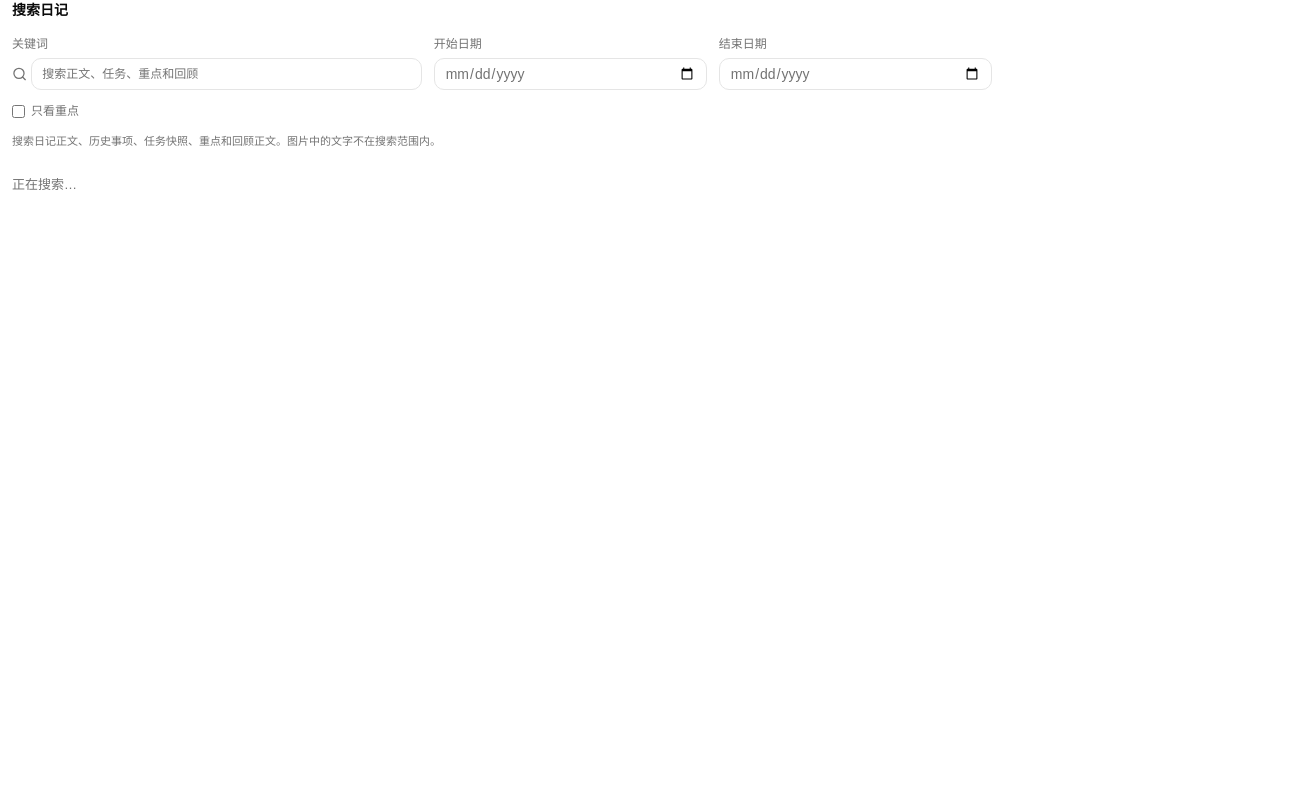
Test: paginates highlight excerpts in batches of fifty and resets the page when filtering
This screenshot has width=1292, height=800.
Click the checkbox labelled "只看重点". click: {"x": 18, "y": 111}
box: [12,104,25,118]
(page scrolled)
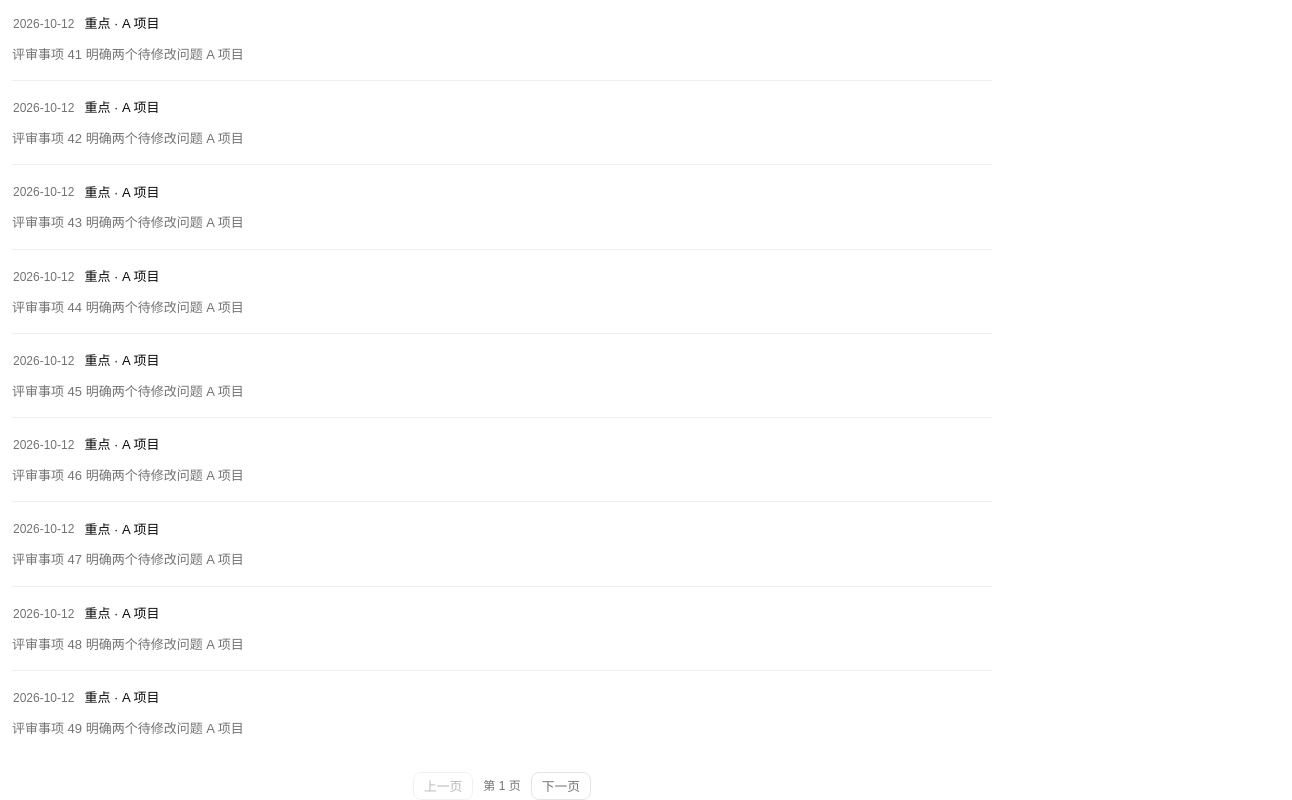
Click the button "下一页". click: {"x": 561, "y": 786}
box: [531,772,591,799]
(page scrolled)
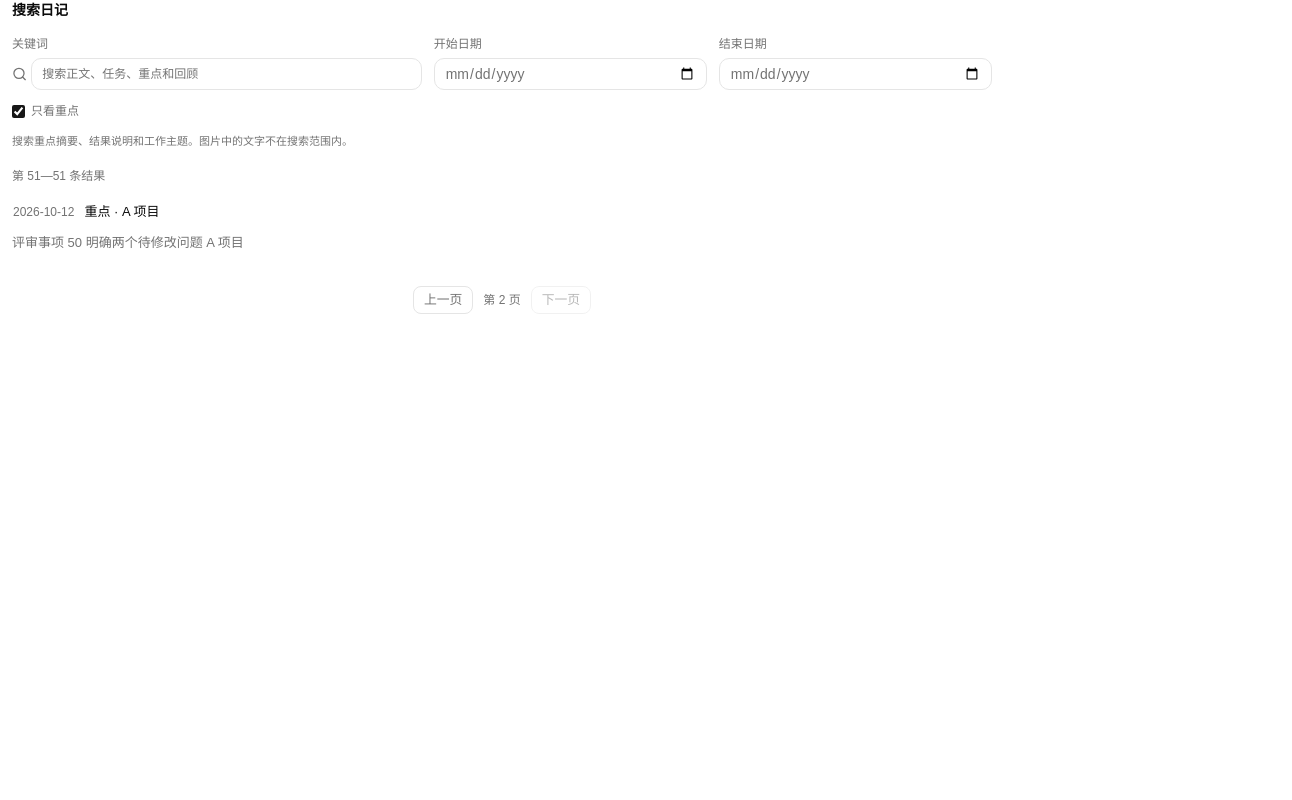
Expected: the number of buttons named "打开2026-10-12重点" is 1, [12,200,992,225]
Type "评审事项 50" into the search field labelled "关键词". click: {"x": 226, "y": 74}
box: [31,58,422,90]
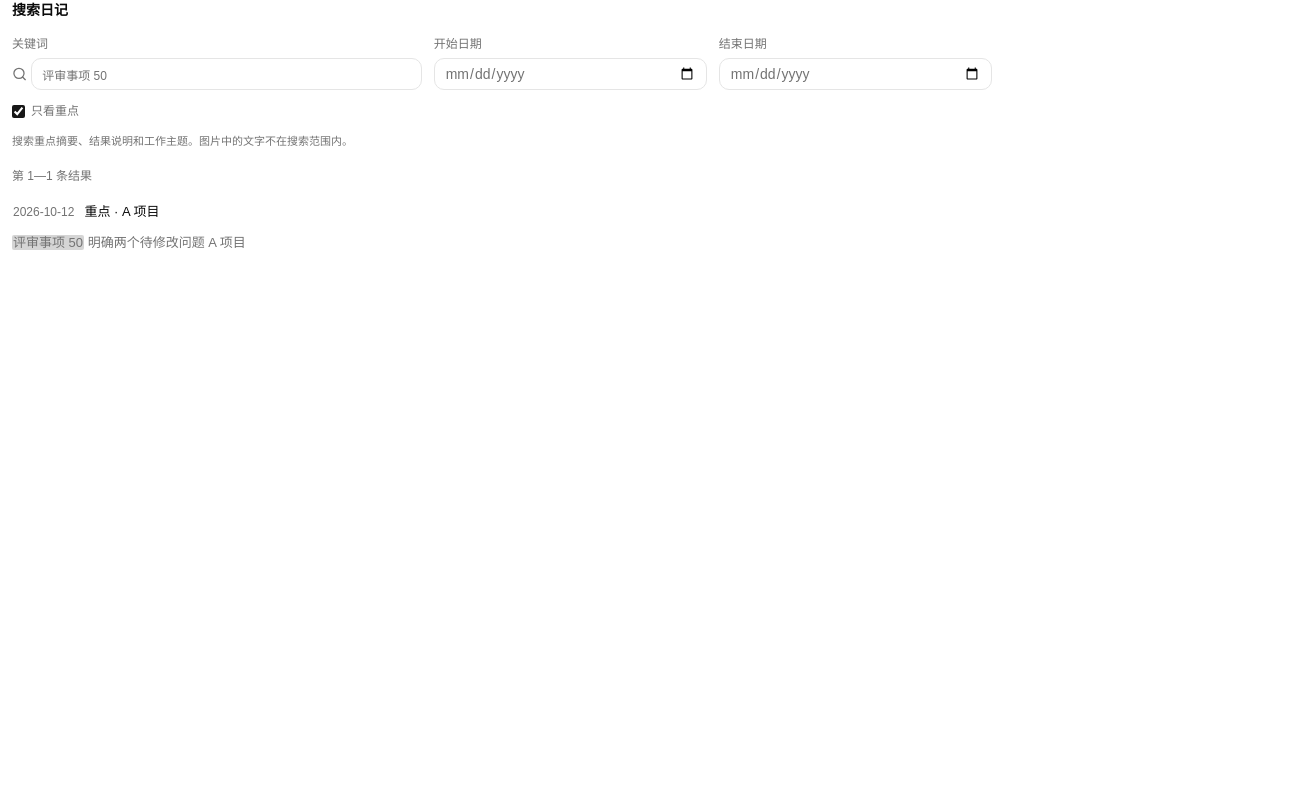
Expected: the message reads "第 1—1 条结果", [12,169,92,183]
